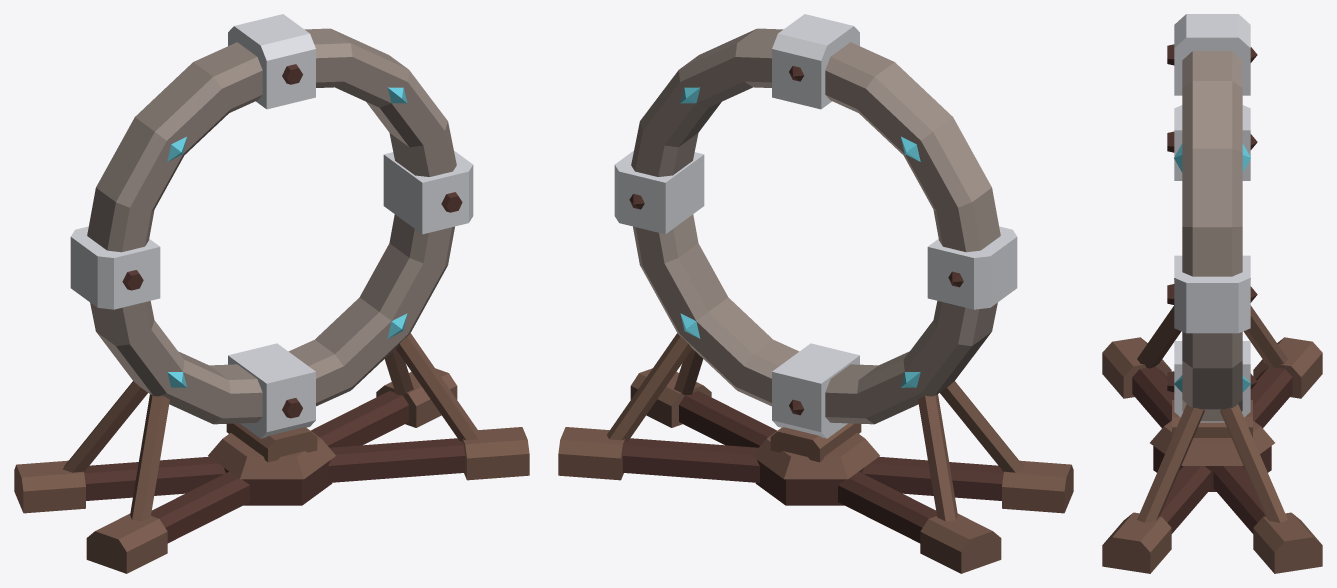
File: portal-generator-e033a6.glb
3 renders of one model, left to right at view 1: azimuth 30°, elevation 25°; view 2: azimuth 150°, elevation 25°; view 3: azimuth 270°, elevation 25°, orthographic. The views are drawn at different scales.
Visible parts, largest first — view 1: portal-generator-matte, portal-generator-metal, portal-generator-crystal; view 2: portal-generator-matte, portal-generator-metal, portal-generator-crystal; view 3: portal-generator-matte, portal-generator-metal, portal-generator-crystal.
Part boxes in pixels (left/top/right/bottom): portal-generator-matte: left=14, top=28, right=529, bottom=573; portal-generator-metal: left=70, top=14, right=473, bottom=543; portal-generator-crystal: left=167, top=87, right=407, bottom=387; portal-generator-matte: left=558, top=28, right=1073, bottom=573; portal-generator-metal: left=614, top=14, right=1017, bottom=543; portal-generator-crystal: left=680, top=87, right=920, bottom=387; portal-generator-matte: left=1102, top=51, right=1322, bottom=573; portal-generator-metal: left=1132, top=14, right=1292, bottom=533; portal-generator-crystal: left=1174, top=143, right=1250, bottom=392.
Bounding box in the file's own units: 0.7481 × 0.748 × 0.3359.
